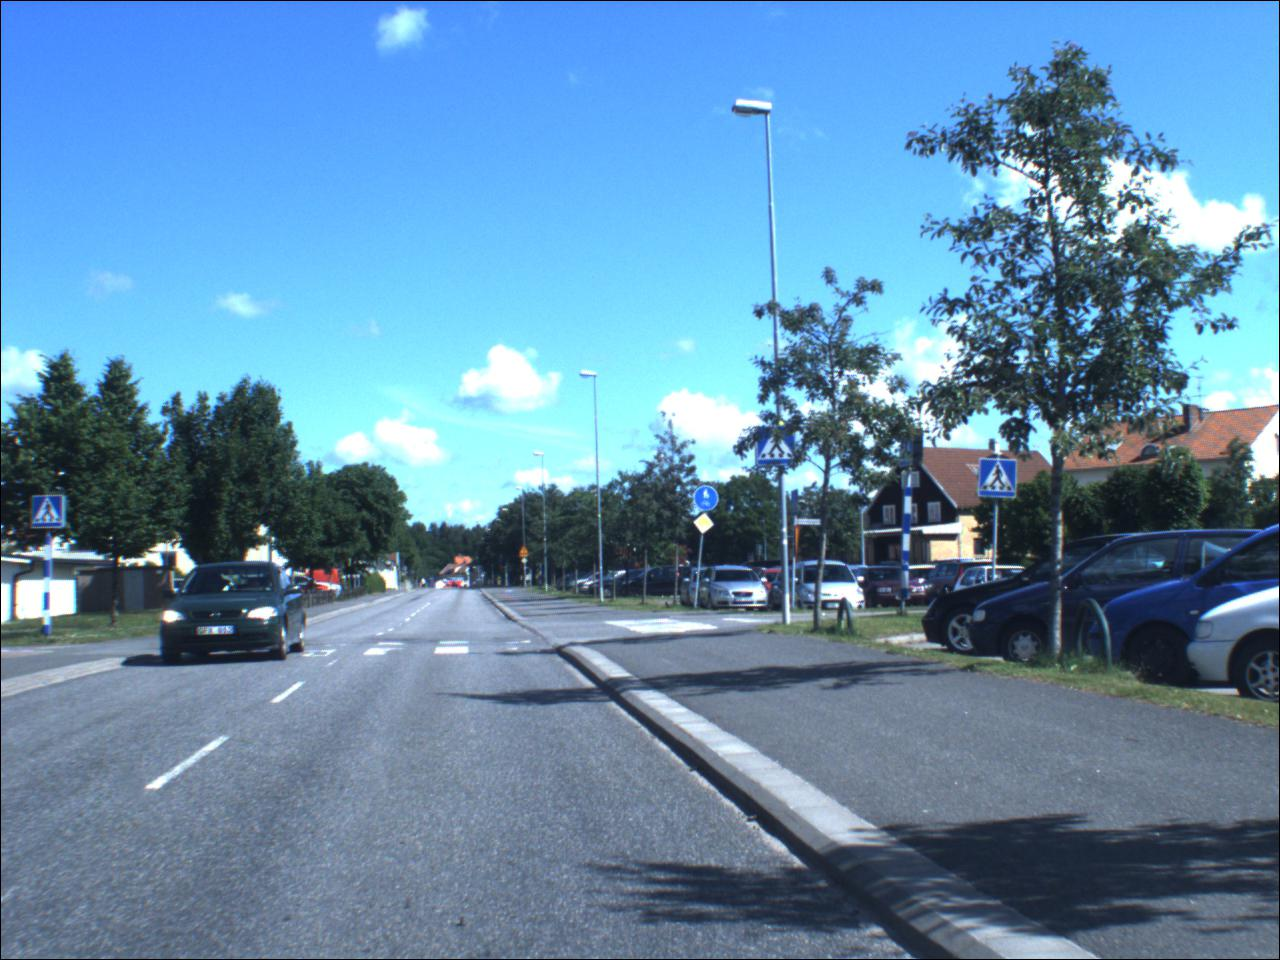PEDESTRIAN_CROSSING: (759, 428, 798, 464), (983, 461, 1018, 499), (32, 498, 66, 531), (900, 430, 916, 468)
PRIORITY_ROAD: (693, 514, 717, 536), (523, 560, 531, 566)
WARNING_DANGER: (519, 548, 532, 560)
